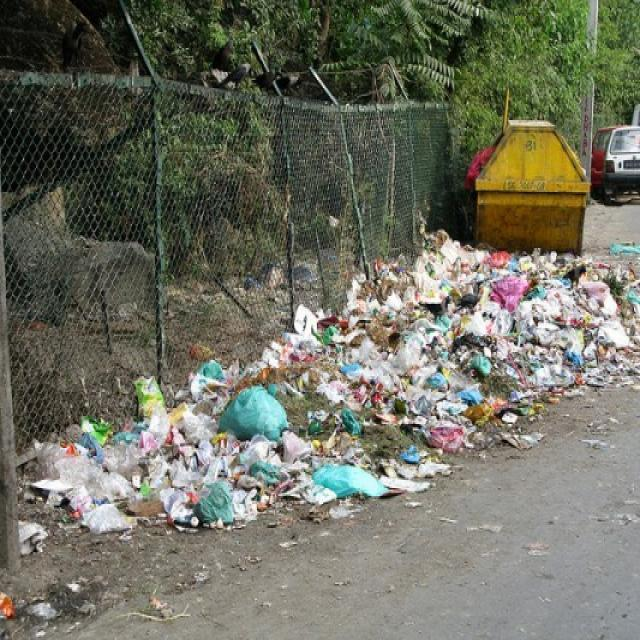trash: (310, 315, 540, 452), (30, 419, 310, 522), (438, 233, 625, 306)
